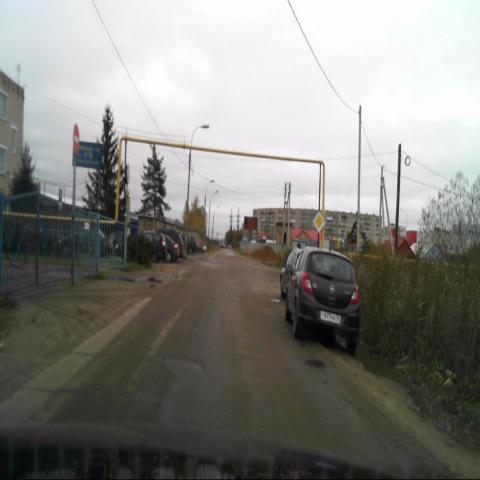3_1: (71, 124, 81, 157)
